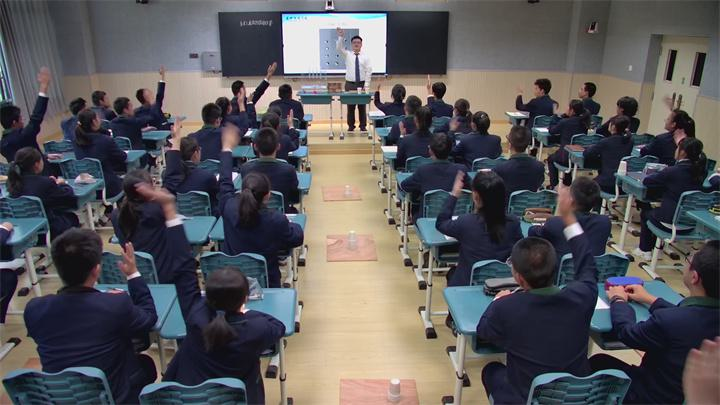hands-up: (137, 186, 264, 371), (492, 194, 594, 369), (27, 232, 156, 343), (208, 129, 299, 253), (445, 167, 520, 242), (4, 68, 54, 142), (133, 63, 179, 124), (228, 59, 279, 103), (260, 110, 307, 154), (515, 73, 556, 121), (364, 71, 407, 114), (212, 81, 249, 130), (416, 73, 456, 111)
listen: (615, 249, 706, 353), (641, 142, 712, 214), (8, 150, 75, 223), (71, 107, 136, 169), (588, 114, 634, 172), (492, 129, 536, 176)
